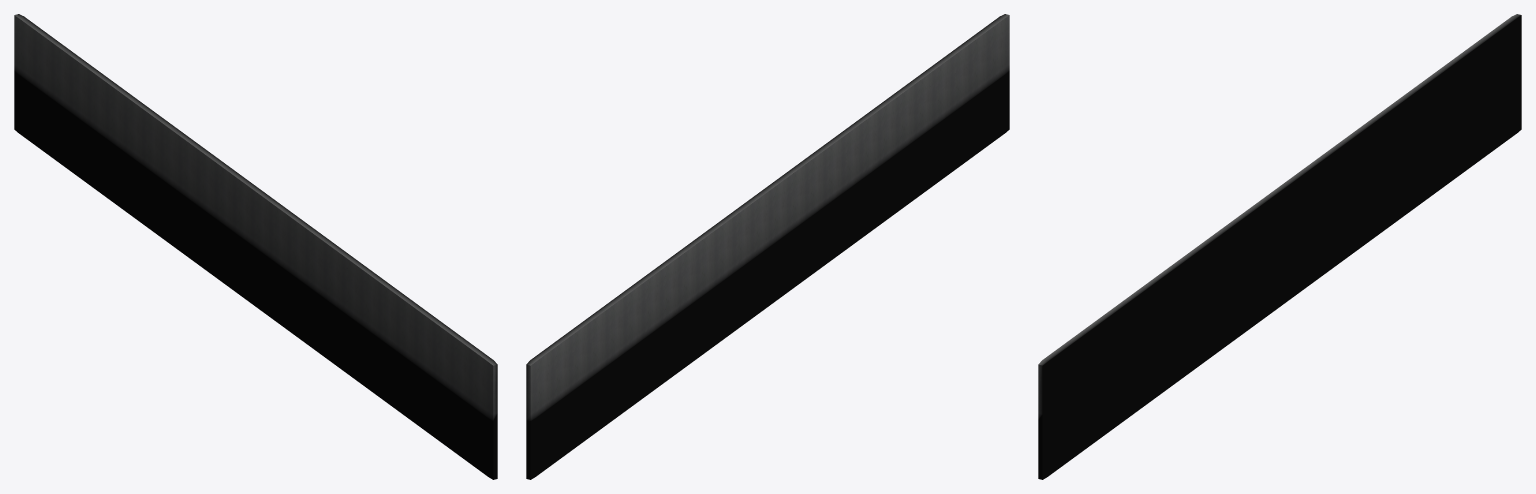
File: AMB_BLOCK.glb
3 renders of one model, left to right at view 1: azimuth 30°, elevation 25°; view 2: azimuth 150°, elevation 25°; view 3: azimuth 330°, elevation 25°, orthographic.
Visible parts, largest first — view 1: Mesh1; view 2: Mesh1; view 3: Mesh1.
Boxes of the visible parts, x1,y1,x2,y2 form: Mesh1: (14,14,497,479); Mesh1: (526,14,1009,479); Mesh1: (1038,14,1521,479).
Size of the model in its own units: 0.7078 by 13.53 by 102.
1 material, 1 textured.
